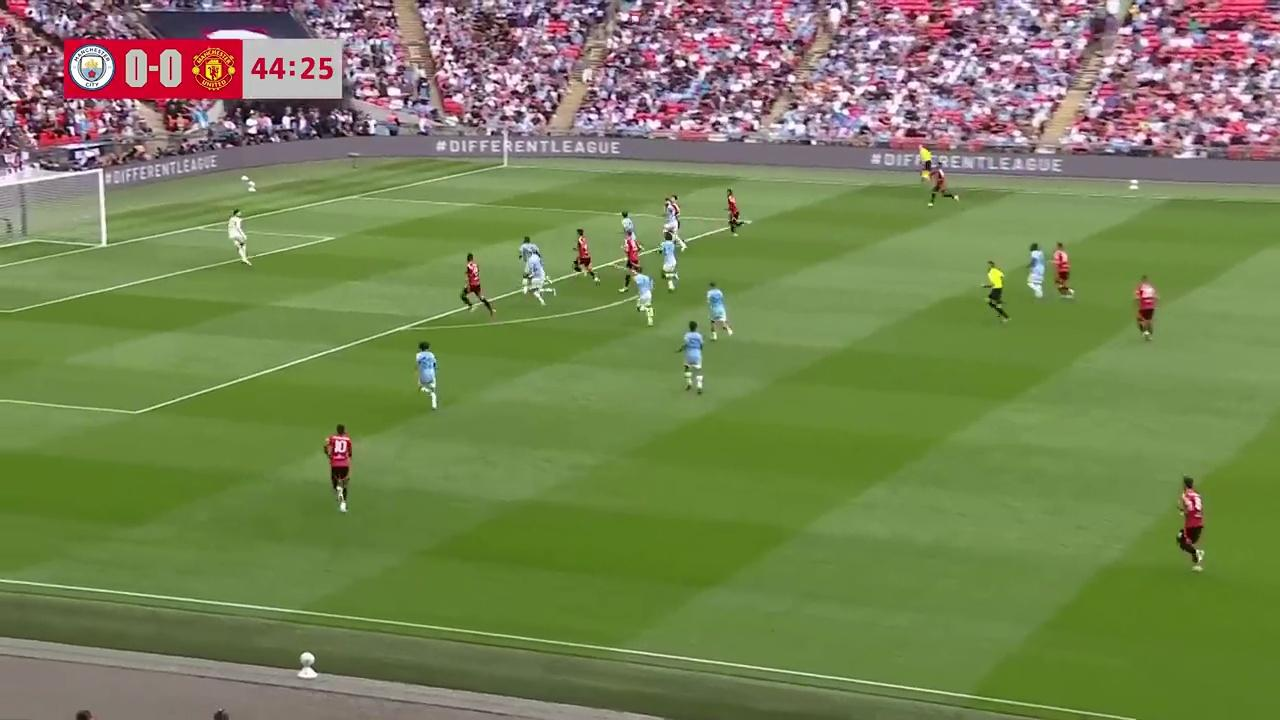player: (1176, 476, 1205, 572), (324, 423, 352, 512), (460, 252, 496, 316), (676, 319, 705, 395), (705, 281, 733, 342), (1133, 275, 1158, 343), (415, 341, 438, 410), (571, 228, 599, 284), (631, 265, 655, 325), (926, 164, 959, 206), (525, 255, 553, 303), (1051, 241, 1074, 299), (228, 209, 251, 266), (658, 236, 680, 291), (1026, 242, 1047, 299), (663, 194, 684, 247), (620, 232, 640, 286), (726, 189, 748, 237), (517, 234, 539, 280), (620, 211, 638, 254)
referee: (983, 260, 1010, 323), (911, 142, 939, 183)
